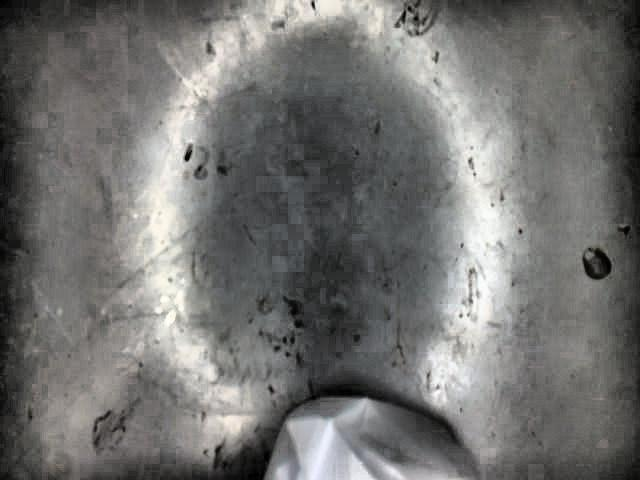Paper: (264, 395, 491, 480)
